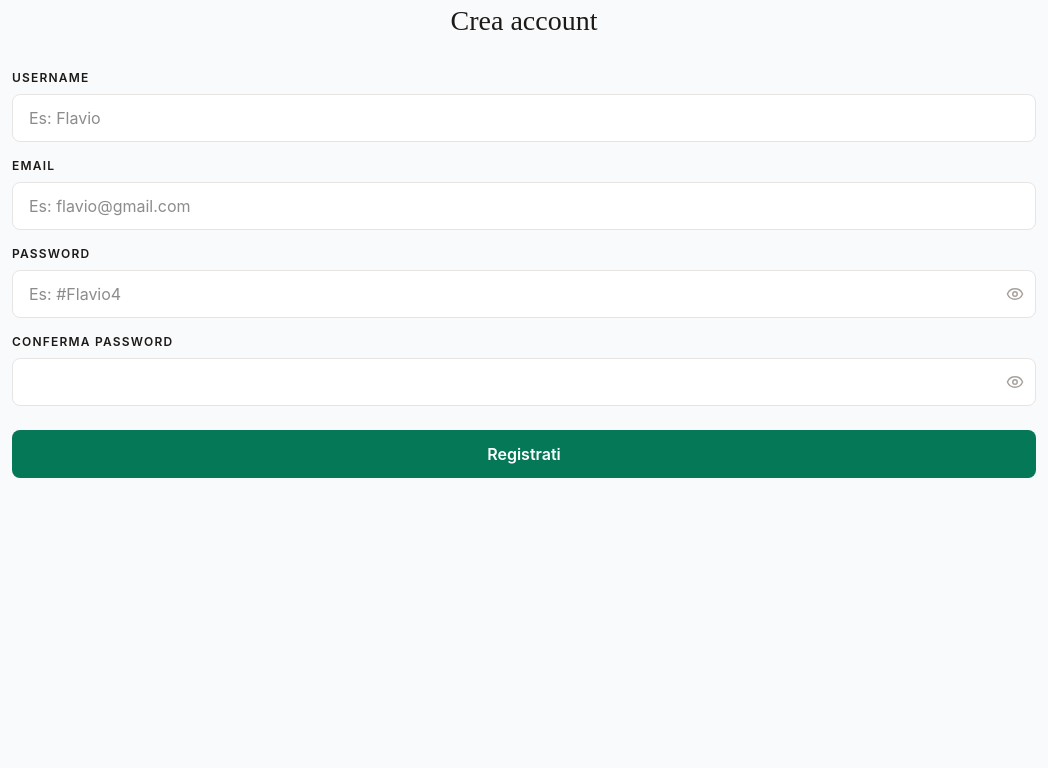
Test: Register › ok=false: mostra errore server (RF-OB_04)
Type "mario123" into the field labelled "Username". click: point(524, 118)
box: x1=12 y1=94 x2=1036 y2=142
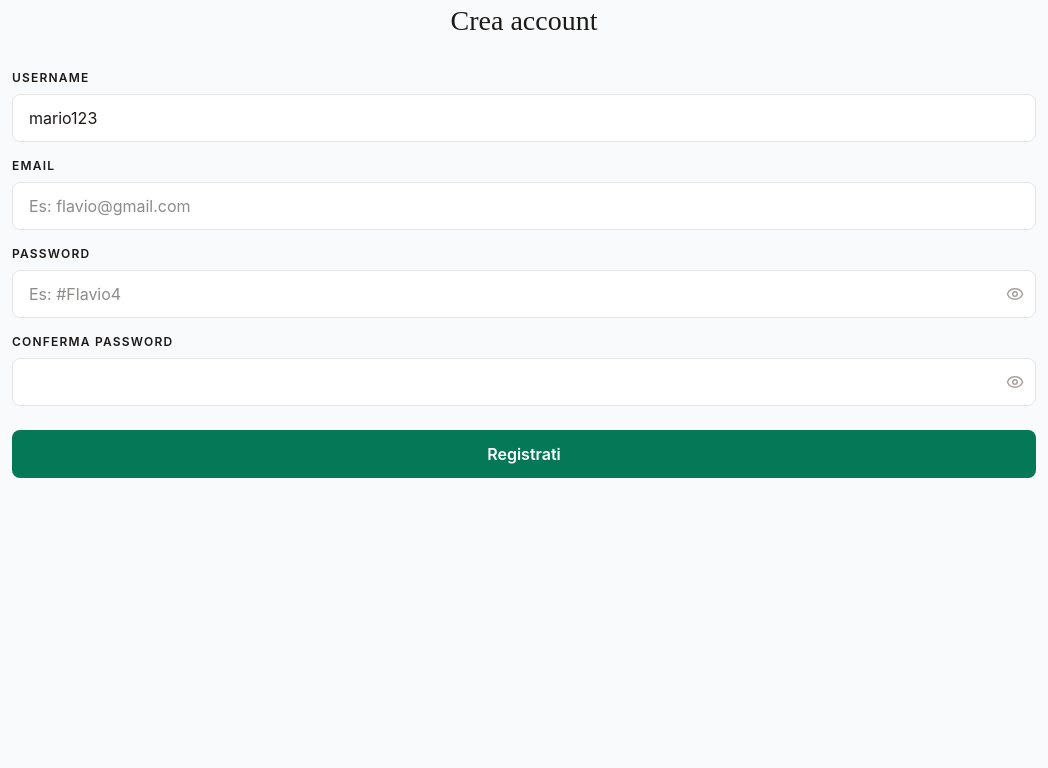
Type "mario@example.com" into the field labelled "Email". click: point(524, 206)
box: x1=12 y1=182 x2=1036 y2=230
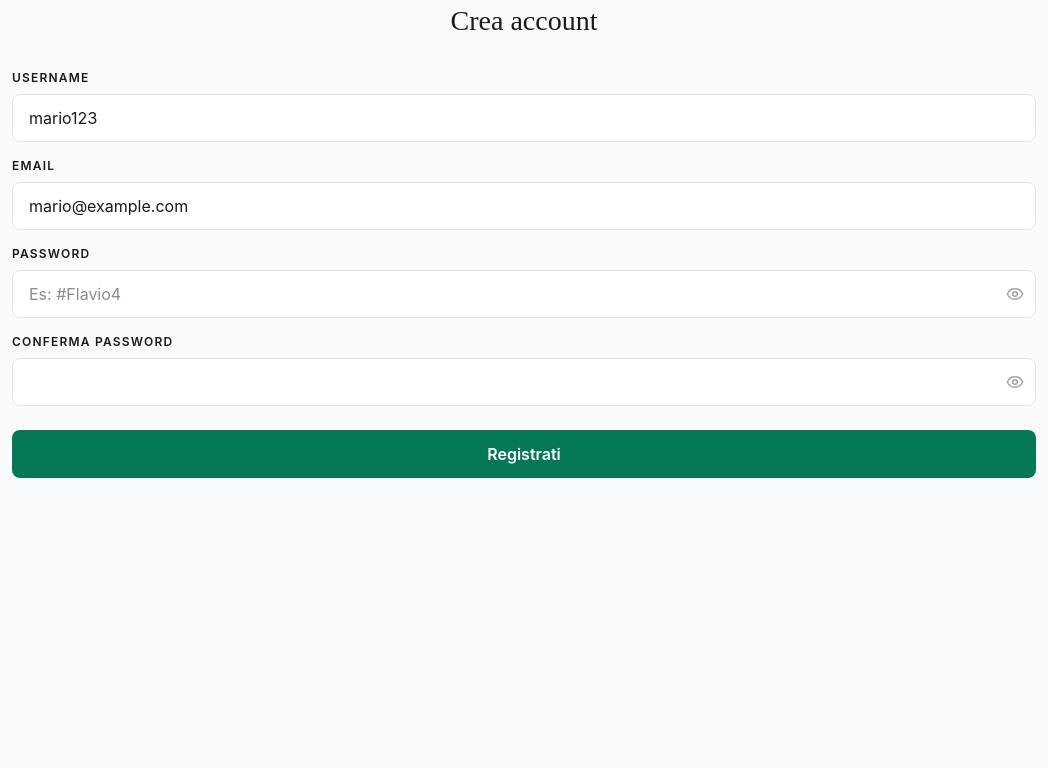
Type "Password1!" into the password field labelled "Password". click: point(524, 294)
box: x1=12 y1=270 x2=1036 y2=318
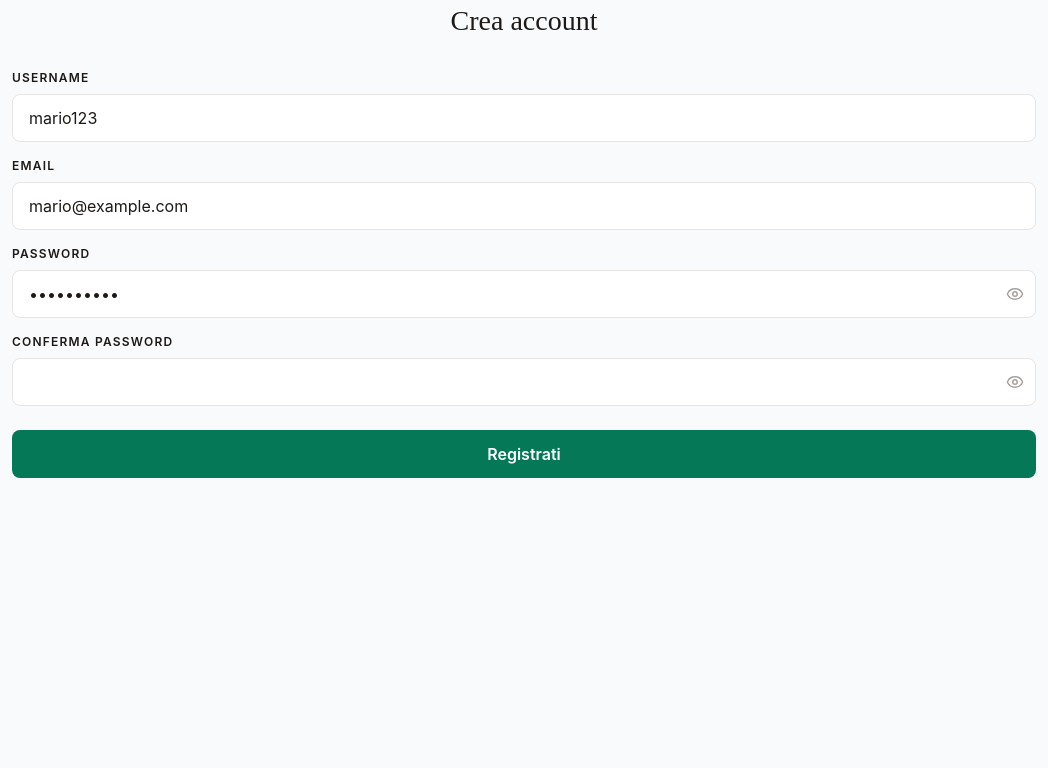
Type "Password1!" into the password field labelled "Conferma Password". click: point(524, 382)
box: x1=12 y1=358 x2=1036 y2=406
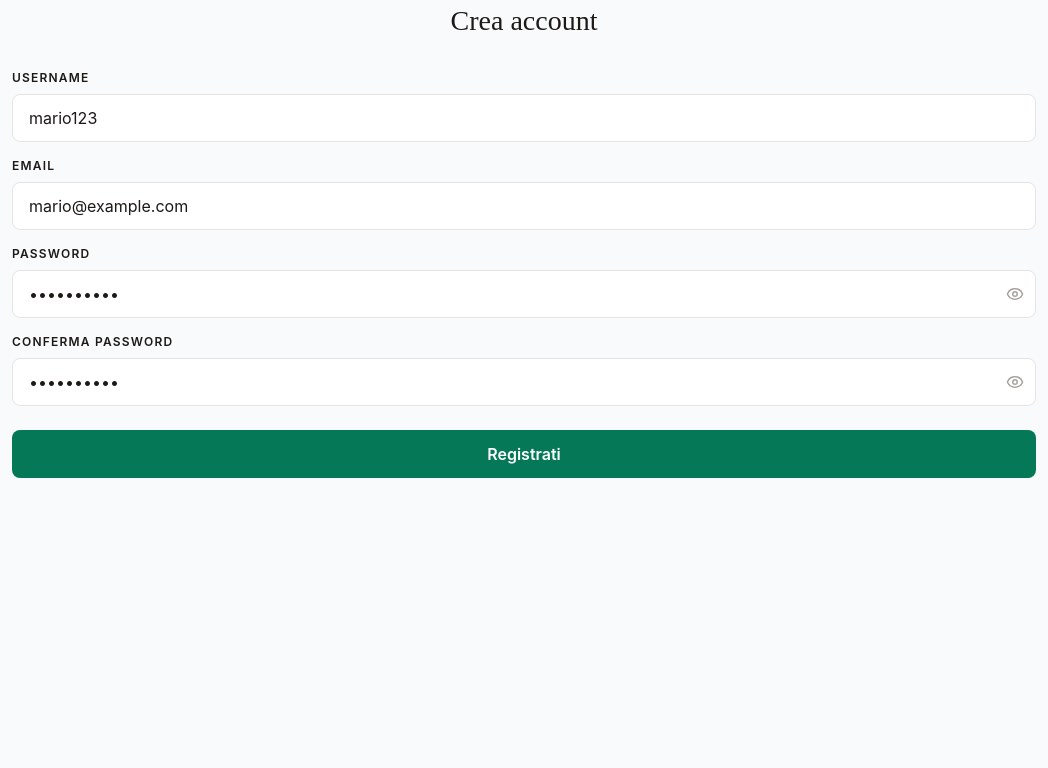
Click the button "Registrati". click: point(524, 454)
box: x1=12 y1=430 x2=1036 y2=478
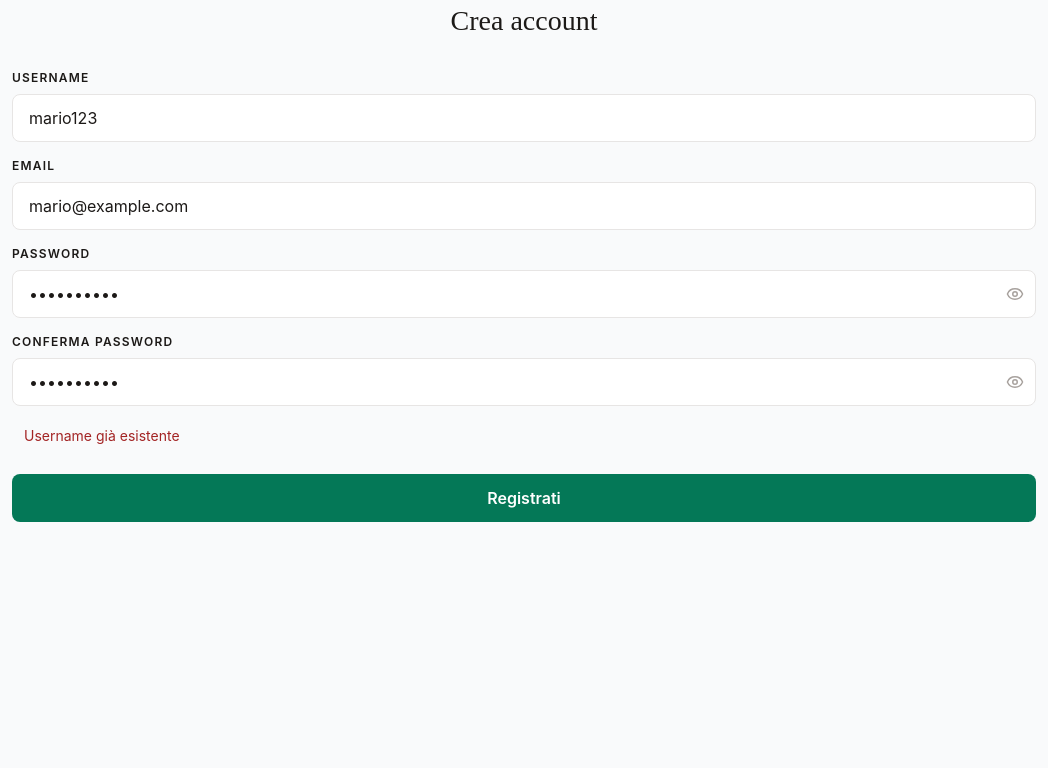
Result: the text "Username già esistente" is shown at x1=24 y1=427 x2=180 y2=444
